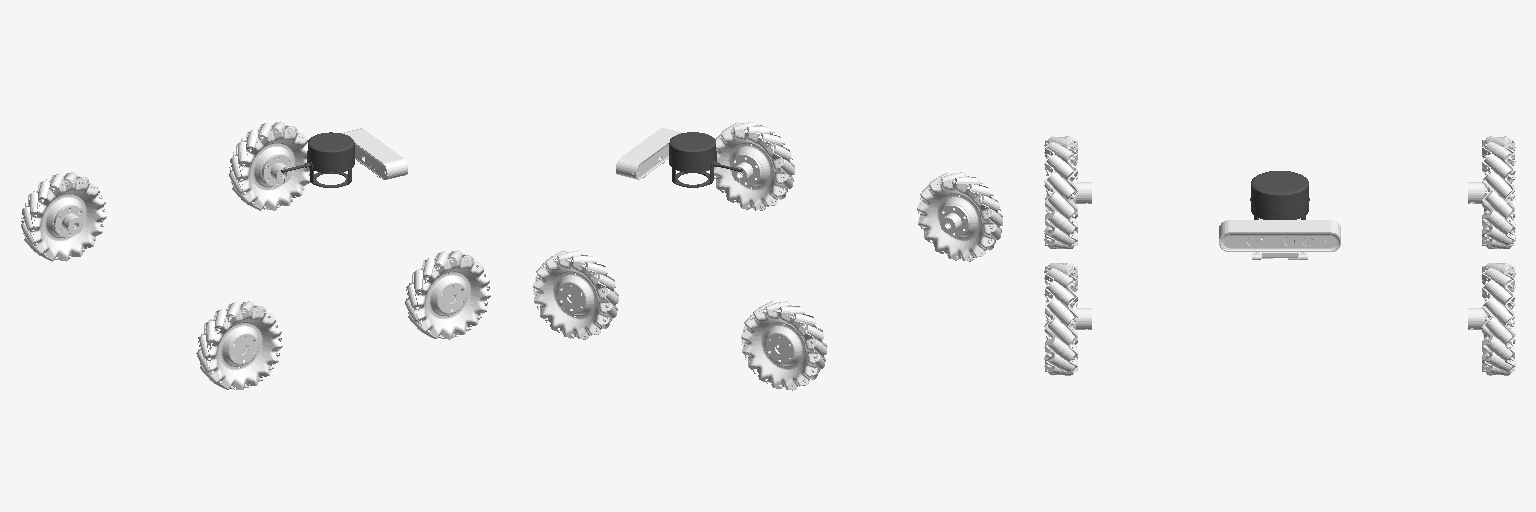
robot.urdf — top_mec_dl_robot:
<?xml version="1.0" encoding="utf-8"?>
<!-- This URDF was automatically created by SolidWorks to URDF Exporter! Originally created by [author] ([email redacted]) 
     Commit Version: 1.6.0-4-g7f85cfe  Build Version: 1.6.7995.38578
     For more information, please see http://wiki.ros.org/sw_urdf_exporter -->
<robot
  name="top_mec_dl_robot">
  <link
    name="base_link">
    <inertial>
      <origin
        xyz="-0.00938840682160441 2.00224341086989E-05 0.0661807789455274"
        rpy="0 0 0" />
      <mass
        value="5.03089907560031" />
      <inertia
        ixx="0.0282232676463976"
        ixy="-7.51990290219917E-05"
        ixz="6.51121451986568E-08"
        iyy="0.0237206232769765"
        iyz="-2.71484007645753E-06"
        izz="0.0487459518580986" />
    </inertial>
    <visual>
      <origin
        xyz="0 0 0"
        rpy="0 0 0" />
      <geometry>
        <mesh
          filename="package://wheeltec_robot_urdf/meshes/top_mec_dl_robot_meshes/base_link.STL" />
      </geometry>
      <material
        name="">
        <color
          rgba="0.741176470588235 0.901960784313726 0.956862745098039 1" />
      </material>
    </visual>
    <collision>
      <origin
        xyz="0 0 0"
        rpy="0 0 0" />
      <geometry>
        <mesh
          filename="package://wheeltec_robot_urdf/meshes/top_mec_dl_robot_meshes/base_link.STL" />
      </geometry>
    </collision>
  </link>
  <link
    name="lf_wheel_link">
    <inertial>
      <origin
        xyz="3.92535289067686E-06 -0.00243189430082569 1.98096871506515E-05"
        rpy="0 0 0" />
      <mass
        value="0.241686940401635" />
      <inertia
        ixx="0.000456349247398891"
        ixy="-2.62460989536307E-09"
        ixz="-1.5748533696854E-08"
        iyy="0.00086797881900755"
        iyz="-1.84194718279799E-07"
        izz="0.000456944133766134" />
    </inertial>
    <visual>
      <origin
        xyz="0 0 0"
        rpy="0 0 0" />
      <geometry>
        <mesh
          filename="package://wheeltec_robot_urdf/meshes/top_mec_dl_robot_meshes/lf_wheel_link.STL" />
      </geometry>
      <material
        name="">
        <color
          rgba="1 1 1 1" />
      </material>
    </visual>
    <collision>
      <origin
        xyz="0 0 0"
        rpy="0 0 0" />
      <geometry>
        <mesh
          filename="package://wheeltec_robot_urdf/meshes/top_mec_dl_robot_meshes/lf_wheel_link.STL" />
      </geometry>
    </collision>
  </link>
  <joint
    name="lf_wheel_joint"
    type="continuous">
    <origin
      xyz="0.200996160645863 0.294459641802979 0.036499572875253"
      rpy="0 0 0" />
    <parent
      link="base_link" />
    <child
      link="lf_wheel_link" />
    <axis
      xyz="0 -1 0" />
  </joint>
  <link
    name="lb_wheel_link">
    <inertial>
      <origin
        xyz="4.07110546810086E-06 -0.0024318943008132 1.98096871562442E-05"
        rpy="0 0 0" />
      <mass
        value="0.24168694040253" />
      <inertia
        ixx="0.000456349247399898"
        ixy="-2.62460985998663E-09"
        ixz="-1.57485336398279E-08"
        iyy="0.00086797881900945"
        iyz="-1.84194718757549E-07"
        izz="0.000456944133767675" />
    </inertial>
    <visual>
      <origin
        xyz="0 0 0"
        rpy="0 0 0" />
      <geometry>
        <mesh
          filename="package://wheeltec_robot_urdf/meshes/top_mec_dl_robot_meshes/lb_wheel_link.STL" />
      </geometry>
      <material
        name="">
        <color
          rgba="1 1 1 1" />
      </material>
    </visual>
    <collision>
      <origin
        xyz="0 0 0"
        rpy="0 0 0" />
      <geometry>
        <mesh
          filename="package://wheeltec_robot_urdf/meshes/top_mec_dl_robot_meshes/lb_wheel_link.STL" />
      </geometry>
    </collision>
  </link>
  <joint
    name="lb_wheel_joint"
    type="continuous">
    <origin
      xyz="-0.201020839354137 0.294459641802977 0.036499572875253"
      rpy="0 0 0" />
    <parent
      link="base_link" />
    <child
      link="lb_wheel_link" />
    <axis
      xyz="0 -1 0" />
  </joint>
  <link
    name="rb_wheel_link">
    <inertial>
      <origin
        xyz="-3.92535274798544E-06 0.00243189430082313 1.98096871561609E-05"
        rpy="0 0 0" />
      <mass
        value="0.241686940402531" />
      <inertia
        ixx="0.000456349247399903"
        ixy="-2.6246098602444E-09"
        ixz="1.57485336422935E-08"
        iyy="0.000867978819009456"
        iyz="1.84194718757791E-07"
        izz="0.000456944133767675" />
    </inertial>
    <visual>
      <origin
        xyz="0 0 0"
        rpy="0 0 0" />
      <geometry>
        <mesh
          filename="package://wheeltec_robot_urdf/meshes/top_mec_dl_robot_meshes/rb_wheel_link.STL" />
      </geometry>
      <material
        name="">
        <color
          rgba="1 1 1 1" />
      </material>
    </visual>
    <collision>
      <origin
        xyz="0 0 0"
        rpy="0 0 0" />
      <geometry>
        <mesh
          filename="package://wheeltec_robot_urdf/meshes/top_mec_dl_robot_meshes/rb_wheel_link.STL" />
      </geometry>
    </collision>
  </link>
  <joint
    name="rb_wheel_joint"
    type="continuous">
    <origin
      xyz="-0.201009839354135 -0.294424358197023 0.036499572875253"
      rpy="0 0 0" />
    <parent
      link="base_link" />
    <child
      link="rb_wheel_link" />
    <axis
      xyz="0 1 0" />
  </joint>
  <link
    name="rf_wheel_link">
    <inertial>
      <origin
        xyz="-4.07110545799783E-06 0.00243189430082325 1.98096871562997E-05"
        rpy="0 0 0" />
      <mass
        value="0.241686940402529" />
      <inertia
        ixx="0.000456349247399897"
        ixy="-2.6246098604377E-09"
        ixz="1.57485336414926E-08"
        iyy="0.00086797881900945"
        iyz="1.84194718757059E-07"
        izz="0.000456944133767675" />
    </inertial>
    <visual>
      <origin
        xyz="0 0 0"
        rpy="0 0 0" />
      <geometry>
        <mesh
          filename="package://wheeltec_robot_urdf/meshes/top_mec_dl_robot_meshes/rf_wheel_link.STL" />
      </geometry>
      <material
        name="">
        <color
          rgba="1 1 1 1" />
      </material>
    </visual>
    <collision>
      <origin
        xyz="0 0 0"
        rpy="0 0 0" />
      <geometry>
        <mesh
          filename="package://wheeltec_robot_urdf/meshes/top_mec_dl_robot_meshes/rf_wheel_link.STL" />
      </geometry>
    </collision>
  </link>
  <joint
    name="rf_wheel_joint"
    type="continuous">
    <origin
      xyz="0.201007160645865 -0.294424358197021 0.036499572875253"
      rpy="0 0 0" />
    <parent
      link="base_link" />
    <child
      link="rf_wheel_link" />
    <axis
      xyz="0 1 0" />
  </joint>
  <link
    name="camera_link">
    <inertial>
      <origin
        xyz="3.44859346634863E-07 -3.5361432909137E-07 1.0762423366395E-07"
        rpy="0 0 0" />
      <mass
        value="0.0559842512080104" />
      <inertia
        ixx="0.000130810959339216"
        ixy="1.20255128207143E-07"
        ixz="1.62335437080149E-06"
        iyy="1.91148634967893E-05"
        iyz="-2.80016755796323E-08"
        izz="0.00013138746952303" />
    </inertial>
    <visual>
      <origin
        xyz="0 0 0"
        rpy="0 0 0" />
      <geometry>
        <mesh
          filename="package://wheeltec_robot_urdf/meshes/top_mec_dl_robot_meshes/camera_link.STL" />
      </geometry>
      <material
        name="">
        <color
          rgba="1 1 1 1" />
      </material>
    </visual>
    <collision>
      <origin
        xyz="0 0 0"
        rpy="0 0 0" />
      <geometry>
        <mesh
          filename="package://wheeltec_robot_urdf/meshes/top_mec_dl_robot_meshes/camera_link.STL" />
      </geometry>
    </collision>
  </link>
  <joint
    name="camera_joint"
    type="fixed">
    <origin
      xyz="0.228597160645864 0.000295641802978879 0.168195572875253"
      rpy="0 0 0" />
    <parent
      link="base_link" />
    <child
      link="camera_link" />
    <axis
      xyz="0 0 0" />
  </joint>
  <link
    name="laser_link">
    <inertial>
      <origin
        xyz="0.0019645863104342 -3.57895377307336E-06 -0.000201831632280589"
        rpy="0 0 0" />
      <mass
        value="0.0477519163712811" />
      <inertia
        ixx="3.38461999739335E-05"
        ixy="-2.19897045130119E-09"
        ixz="1.07118468663968E-06"
        iyy="3.9415041585582E-05"
        iyz="6.83978438604238E-10"
        izz="5.6078704210363E-05" />
    </inertial>
    <visual>
      <origin
        xyz="0 0 0"
        rpy="0 0 0" />
      <geometry>
        <mesh
          filename="package://wheeltec_robot_urdf/meshes/top_mec_dl_robot_meshes/laser.STL" />
      </geometry>
      <material
        name="">
        <color
          rgba="0.376470588235294 0.376470588235294 0.376470588235294 1" />
      </material>
    </visual>
    <collision>
      <origin
        xyz="0 0 0"
        rpy="0 0 0" />
      <geometry>
        <mesh
          filename="package://wheeltec_robot_urdf/meshes/top_mec_dl_robot_meshes/laser.STL" />
      </geometry>
    </collision>
  </link>
  <joint
    name="laser_joint"
    type="fixed">
    <origin
      xyz="0.144993160645862 1.79917669916331E-05 0.186515756616684"
      rpy="0 0 -3.14159265358979" />
    <parent
      link="base_link" />
    <child
      link="laser_link" />
    <axis
      xyz="0 0 0" />
  </joint>
  <link
    name="controller_link">
    <inertial>
      <origin
        xyz="-0.0497103400547846 0.0175133932690653 0.00856001464881975"
        rpy="0 0 0" />
      <mass
        value="0.00107921954114689" />
      <inertia
        ixx="1.16330109995671E-08"
        ixy="-3.94092662514798E-09"
        ixz="3.69212982720522E-10"
        iyy="2.2683002186193E-07"
        iyz="5.23015112125972E-10"
        izz="2.25657044103431E-07" />
    </inertial>
    <visual>
      <origin
        xyz="0 0 0"
        rpy="0 0 0" />
      <geometry>
        <mesh
          filename="package://wheeltec_robot_urdf/meshes/top_mec_dl_robot_meshes/controller_link.STL" />
      </geometry>
      <material
        name="">
        <color
          rgba="0.741176470588235 0.901960784313726 0.956862745098039 1" />
      </material>
    </visual>
    <collision>
      <origin
        xyz="0 0 0"
        rpy="0 0 0" />
      <geometry>
        <mesh
          filename="package://wheeltec_robot_urdf/meshes/top_mec_dl_robot_meshes/controller_link.STL" />
      </geometry>
    </collision>
  </link>
  <joint
    name="controller_joint"
    type="fixed">
    <origin
      xyz="0.101379911991696 0.0620176418028592 0.00150000000000075"
      rpy="0 0 0" />
    <parent
      link="base_link" />
    <child
      link="controller_link" />
    <axis
      xyz="0 0 0" />
  </joint>
</robot>

--- Facts derived from the render (not from the file) ---
The picture shows the robot from 3 angles, left to right: view 1: azimuth 30°, elevation 25°; view 2: azimuth 150°, elevation 25°; view 3: azimuth 270°, elevation 25°; orthographic projection.
Model top_mec_dl_robot with 8 links and 7 joints (4 continuous, 3 fixed), rooted at base_link, posed all joints at 0.
Links seen in each view (by area): view 1: rb_wheel_link, rf_wheel_link, lb_wheel_link, lf_wheel_link, laser_link, camera_link; view 2: rb_wheel_link, lf_wheel_link, lb_wheel_link, rf_wheel_link, laser_link, camera_link; view 3: camera_link, rf_wheel_link, lb_wheel_link, rb_wheel_link, lf_wheel_link, laser_link.
Link boxes in pixels (x1,y1,x2,y2): rb_wheel_link: [196, 301, 282, 389]; rf_wheel_link: [405, 250, 490, 339]; lb_wheel_link: [21, 172, 106, 261]; lf_wheel_link: [229, 121, 310, 210]; laser_link: [281, 132, 354, 187]; camera_link: [341, 128, 407, 179]; rb_wheel_link: [917, 172, 1002, 261]; lf_wheel_link: [533, 250, 618, 339]; lb_wheel_link: [741, 301, 827, 390]; rf_wheel_link: [714, 122, 794, 210]; laser_link: [669, 132, 742, 187]; camera_link: [616, 128, 680, 179]; camera_link: [1219, 220, 1340, 259]; rf_wheel_link: [1044, 263, 1091, 375]; lb_wheel_link: [1468, 136, 1515, 248]; rb_wheel_link: [1044, 136, 1091, 248]; lf_wheel_link: [1468, 263, 1515, 375]; laser_link: [1250, 171, 1309, 219].
Size in the robot's own frame: 0.5542 by 0.6339 by 0.254 metres.
Meshes: 8 distinct files referenced, 6 mesh visuals loaded (6 binary STL); not drawn: 2 (reference not matched to a file when rendering).